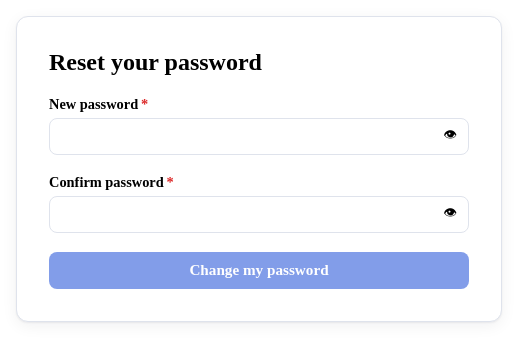
Password reset › shows the server password validation errors
Type "password" into the password field labelled "New password*" at coordinates (259, 137), box [49, 118, 469, 155]
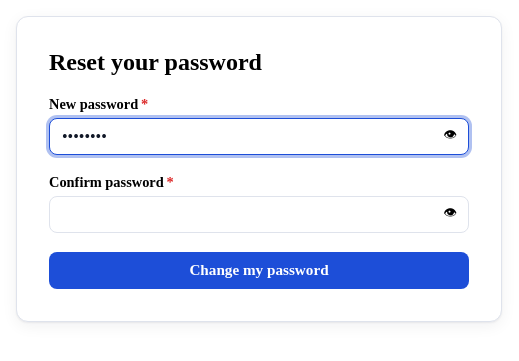
Click the button "Change my password" at coordinates (259, 270), box [49, 252, 469, 289]
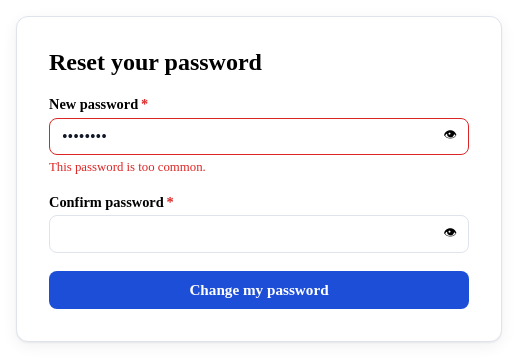
Now the text "This password is too common." is shown, box [49, 160, 206, 174]
